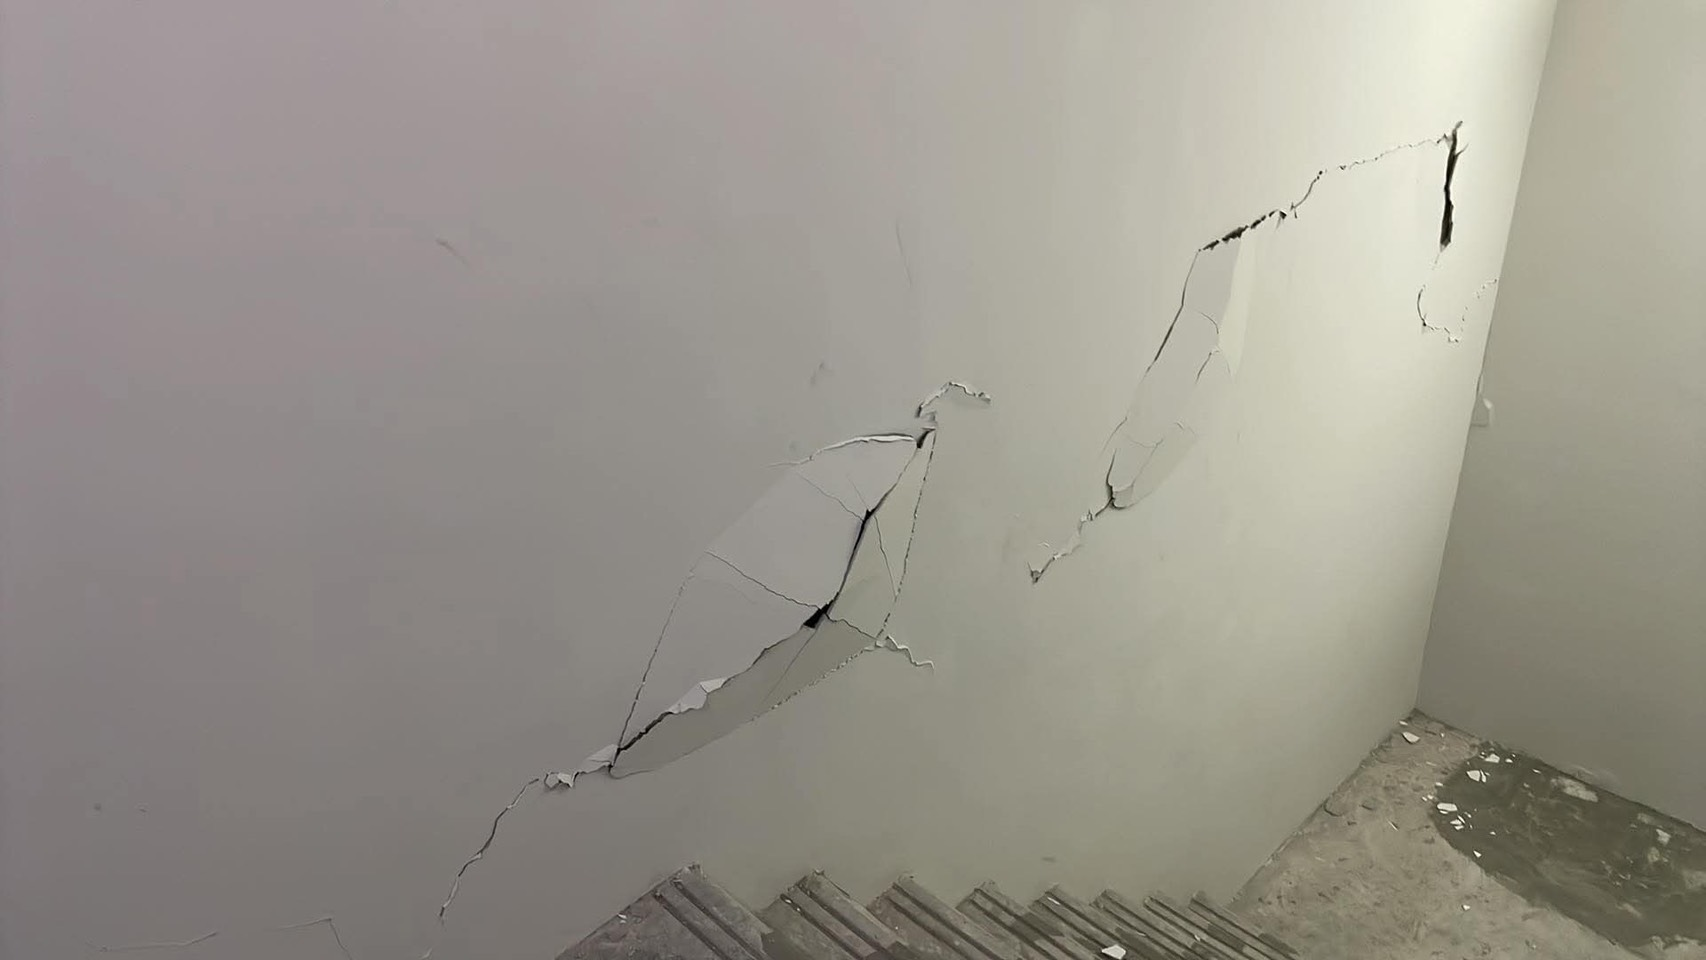Medium: (546, 382, 1003, 794)
